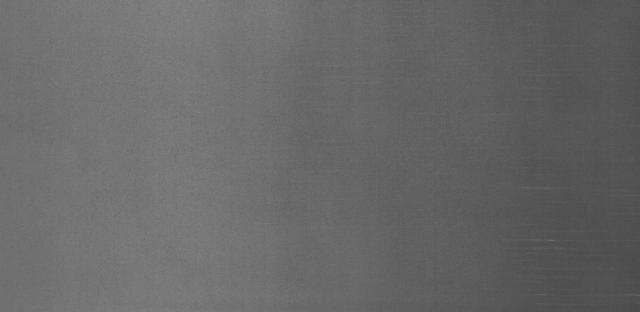waist_folding: (366, 136, 640, 300)
